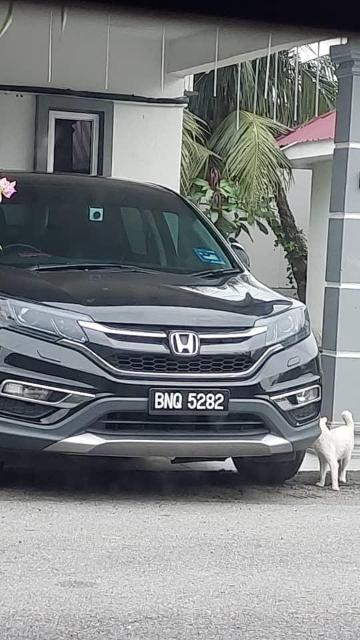License_Plate: (153, 390, 229, 418)
car: (2, 163, 323, 484)
